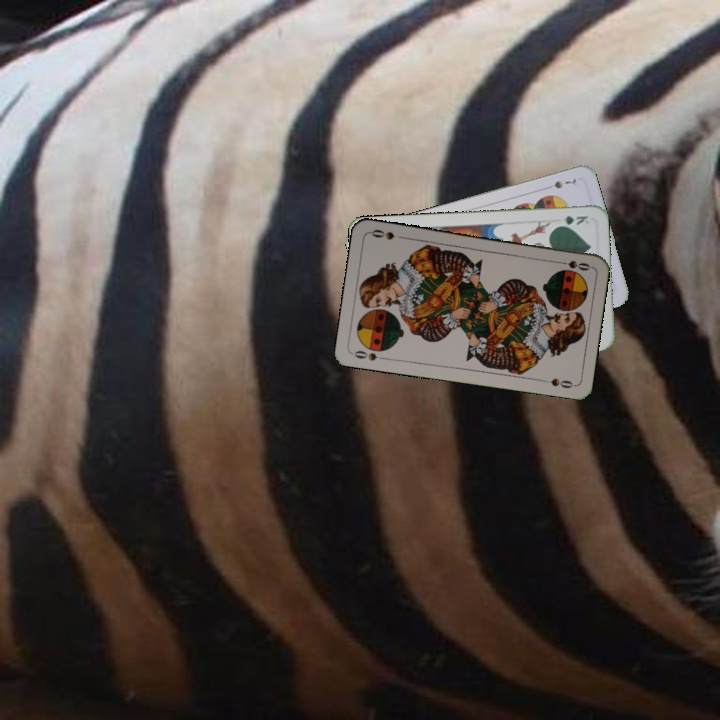GK: (552, 211, 591, 229)
S7: (550, 175, 580, 191)
SO: (553, 257, 593, 273), (350, 347, 390, 363)
